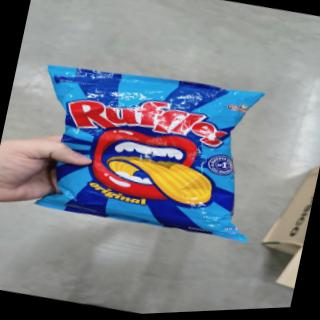food-box: (14, 39, 280, 252)
